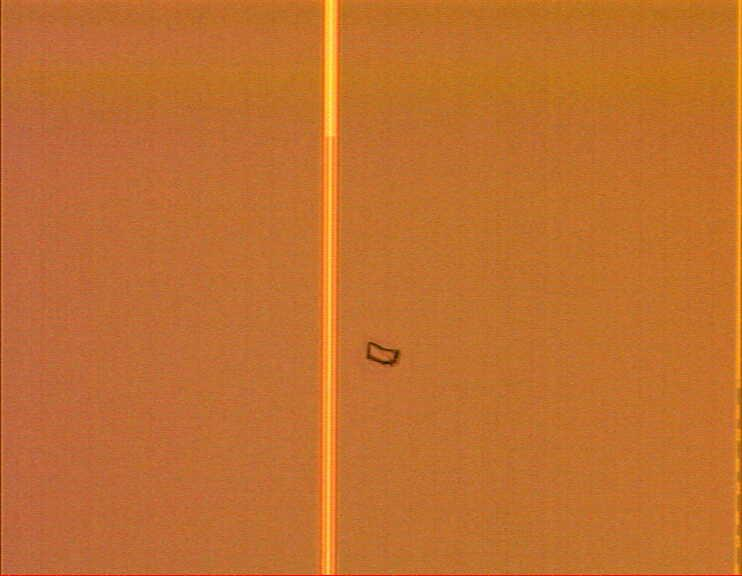PIQ PARTICLE: (359, 333, 408, 373)
